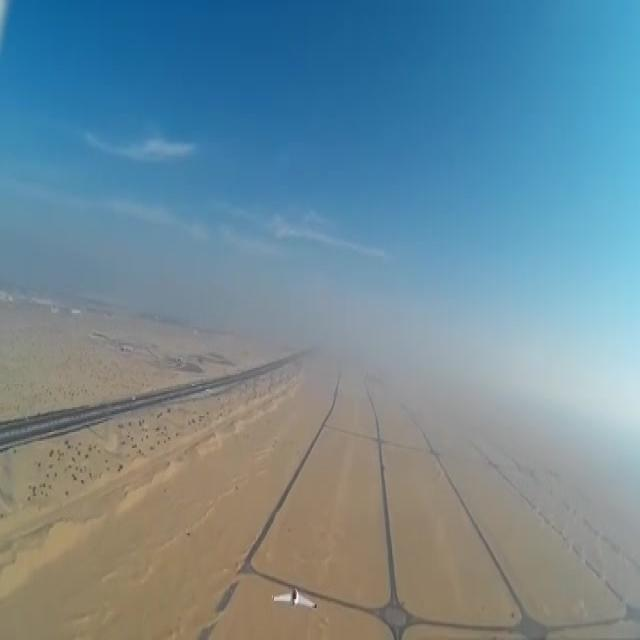iha: (270, 588, 318, 610)
